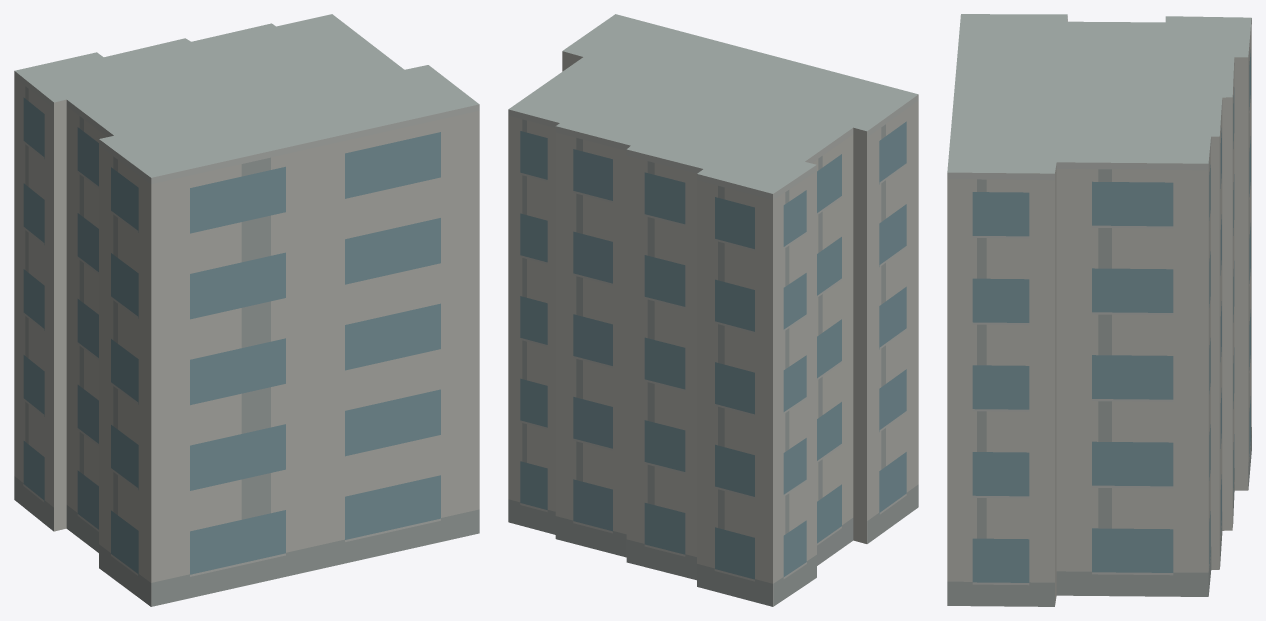
The model's file is survey-upis-32804977.glb.
3 renders of one model, left to right at view 1: azimuth 30°, elevation 25°; view 2: azimuth 150°, elevation 25°; view 3: azimuth 270°, elevation 25°, orthographic. The views are drawn at different scales.
Visible parts, largest first — view 1: survey-upis-32804977.tmp; view 2: survey-upis-32804977.tmp; view 3: survey-upis-32804977.tmp.
Boxes of the visible parts, x1,y1,x2,y2 form: survey-upis-32804977.tmp: [14, 14, 479, 606]; survey-upis-32804977.tmp: [508, 14, 918, 606]; survey-upis-32804977.tmp: [947, 14, 1251, 606].
Size of the model in its own units: 12.65 by 16 by 10.2.
